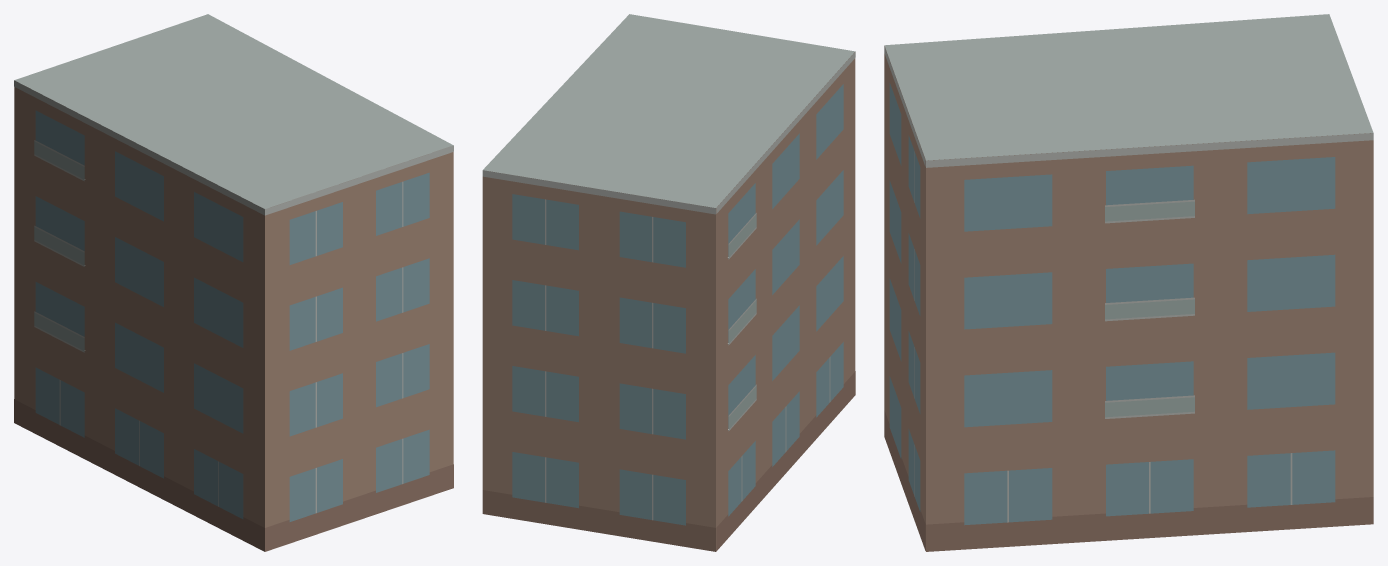
The model's file is survey-upis-32752555.glb.
3 renders of one model, left to right at view 1: azimuth 30°, elevation 25°; view 2: azimuth 150°, elevation 25°; view 3: azimuth 270°, elevation 25°, orthographic. The views are drawn at different scales.
Parts seen in each view (by area): view 1: survey-upis-32752555.tmp; view 2: survey-upis-32752555.tmp; view 3: survey-upis-32752555.tmp.
Part boxes in pixels (x1,y1,x2,y2): survey-upis-32752555.tmp: [14, 14, 453, 551]; survey-upis-32752555.tmp: [482, 14, 855, 551]; survey-upis-32752555.tmp: [884, 14, 1373, 551].
Bounding box in the file's own units: 10.45 × 13 × 14.74.
